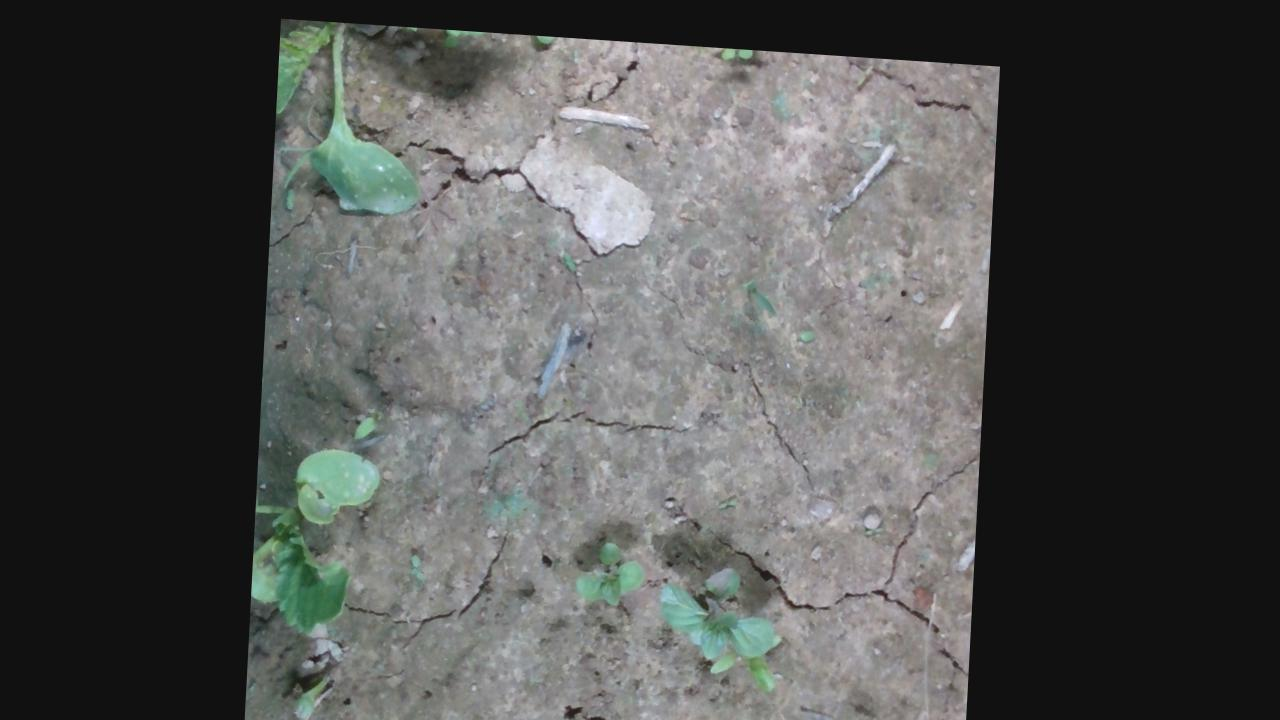weed: (577, 527, 656, 601)
